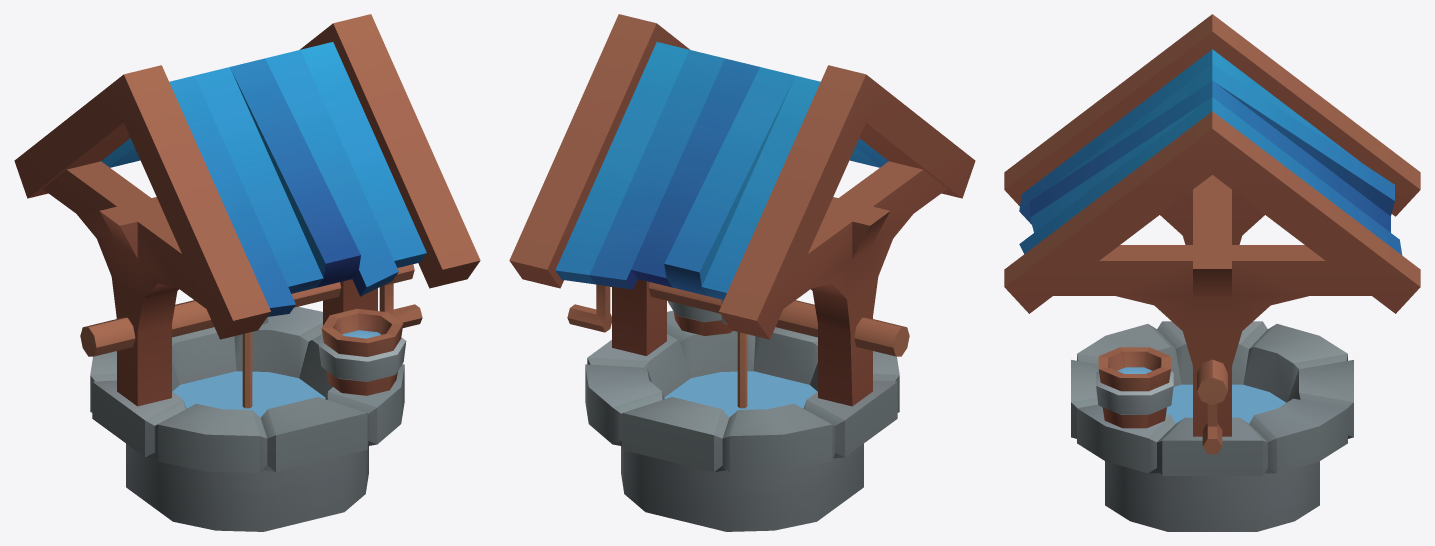
Rendered from kay-poco.gltf.
3 views of the same model, side by side, from view 1: azimuth 30°, elevation 25°; view 2: azimuth 150°, elevation 25°; view 3: azimuth 270°, elevation 25° (orthographic). The views are drawn at different scales.
Visible parts, largest first — view 1: building_well_blue; view 2: building_well_blue; view 3: building_well_blue.
Boxes of the visible parts, x1,y1,x2,y2 form: building_well_blue: [14, 14, 480, 531]; building_well_blue: [509, 14, 975, 531]; building_well_blue: [1004, 14, 1420, 531].
Bounding box in the file's own units: 3.26 × 4.13 × 3.75.
Materials: 1 (1 with a texture image).
